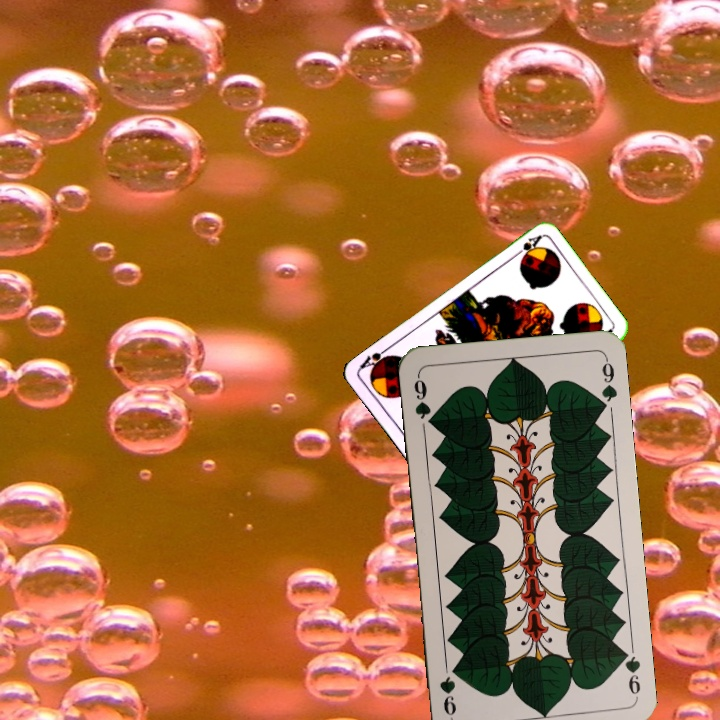G9: (410, 371, 437, 430), (617, 644, 643, 703)
SA: (508, 231, 544, 261)
